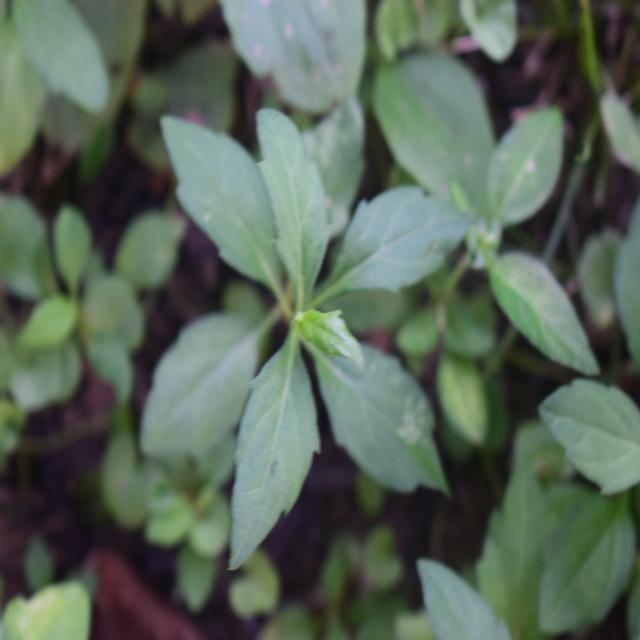Indian aster: (144, 87, 450, 534)
